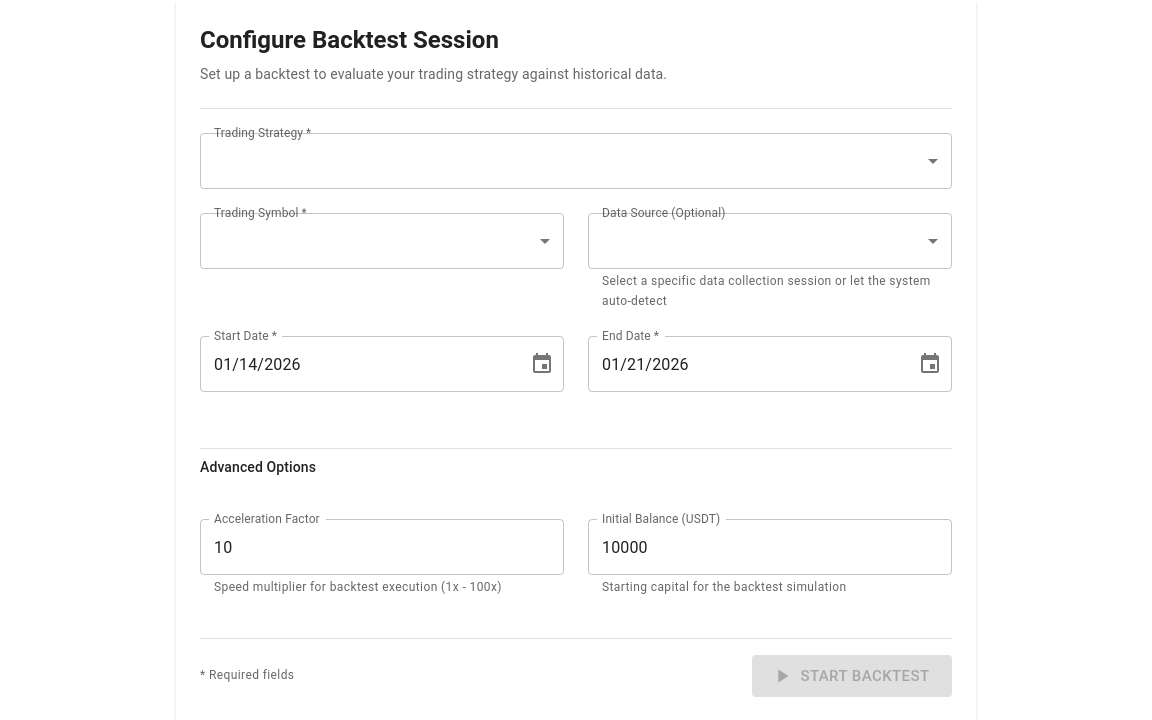
Test case: BacktestSetupForm › AC4 & AC5: Data Availability › displays error when no data available
Press the mouse on the dropdown named "Trading Symbol" next to "Trading Symbol *" at (382, 241), box [200,213,564,269]
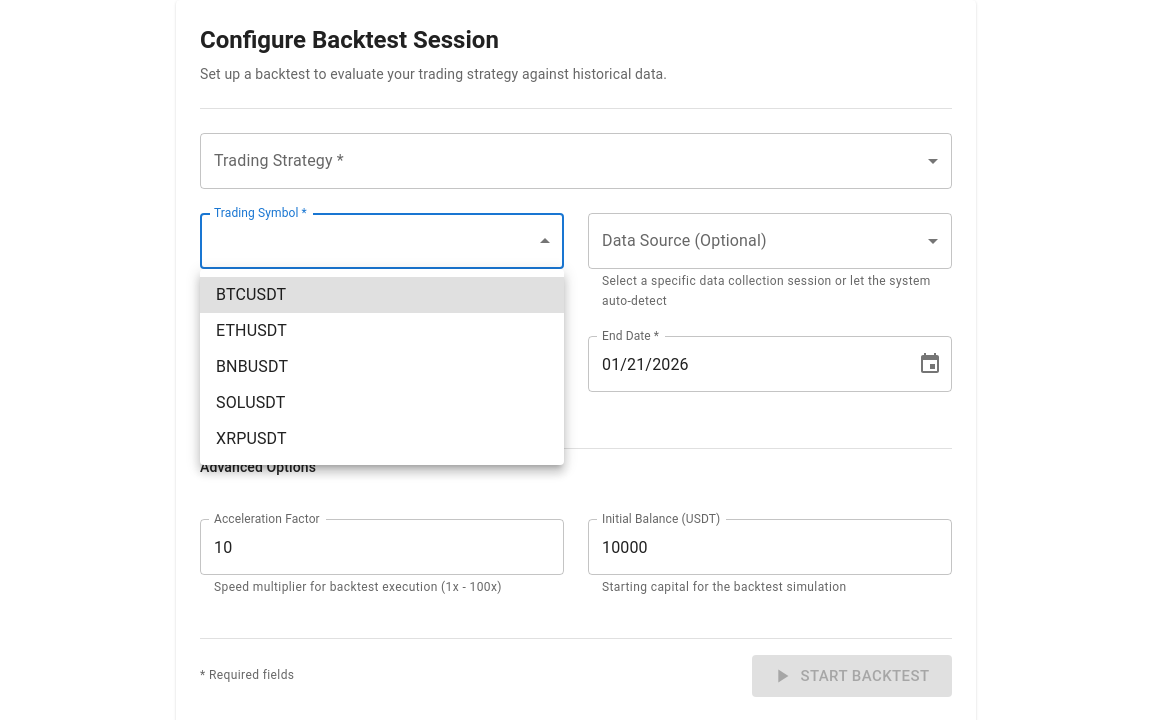
Result: the option "BTCUSDT" is shown
Click the option "BTCUSDT". click: (251, 294)
box: [200,277,564,313]
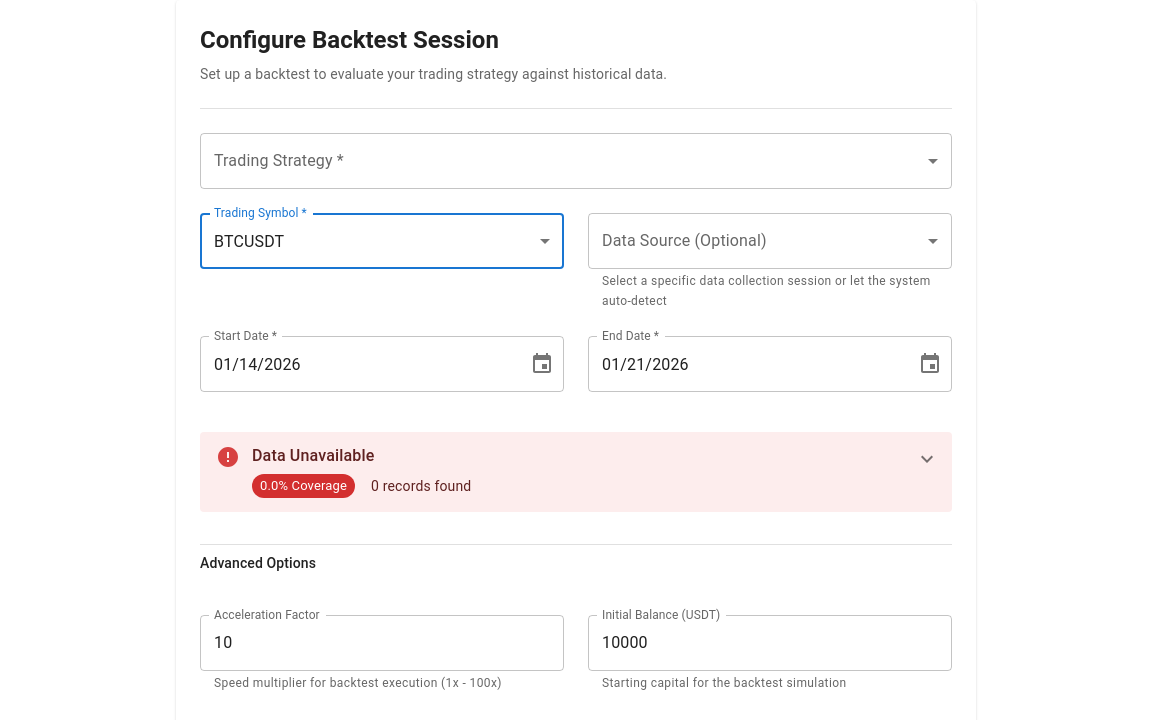
Result: the text "Data Unavailable" is shown at [252,446,374,465]
